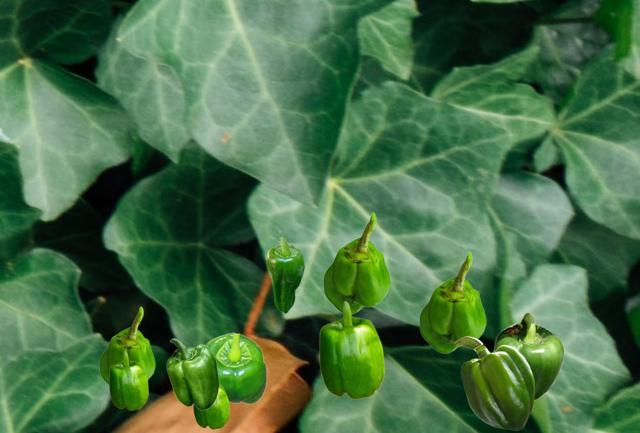bell_pepper: (454, 336, 533, 429), (419, 251, 485, 352), (323, 212, 389, 313), (319, 301, 383, 398), (493, 312, 563, 400), (99, 306, 154, 385), (206, 332, 266, 403), (166, 338, 218, 409), (266, 237, 303, 312), (109, 351, 147, 409), (193, 383, 228, 428)
